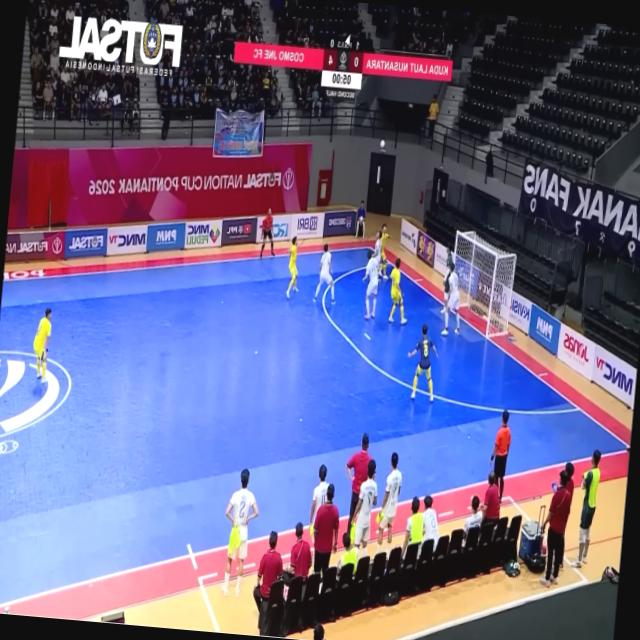keeper: (407, 325, 436, 401), (440, 247, 452, 314)
official: (539, 470, 571, 586), (252, 532, 282, 628), (345, 434, 370, 529), (313, 484, 338, 573), (282, 522, 311, 585)
players: (222, 469, 257, 597), (376, 452, 401, 551), (353, 460, 376, 556), (308, 465, 327, 538), (441, 263, 459, 335), (33, 308, 50, 383), (313, 245, 334, 304), (388, 258, 406, 325), (362, 250, 378, 318), (285, 237, 296, 298), (379, 224, 388, 280), (373, 230, 380, 264)
referee: (489, 410, 510, 502), (259, 209, 273, 257)
